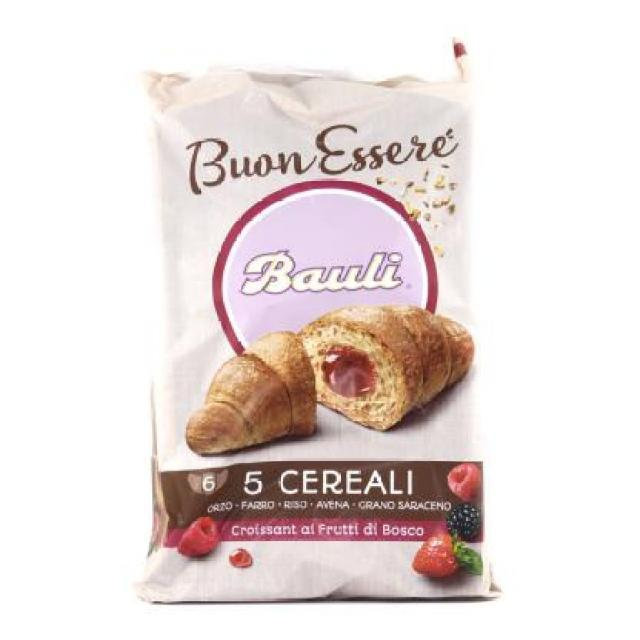Merendine: (138, 51, 508, 598)
